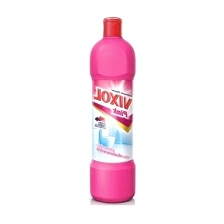cleaning_solution: (87, 14, 136, 205)
